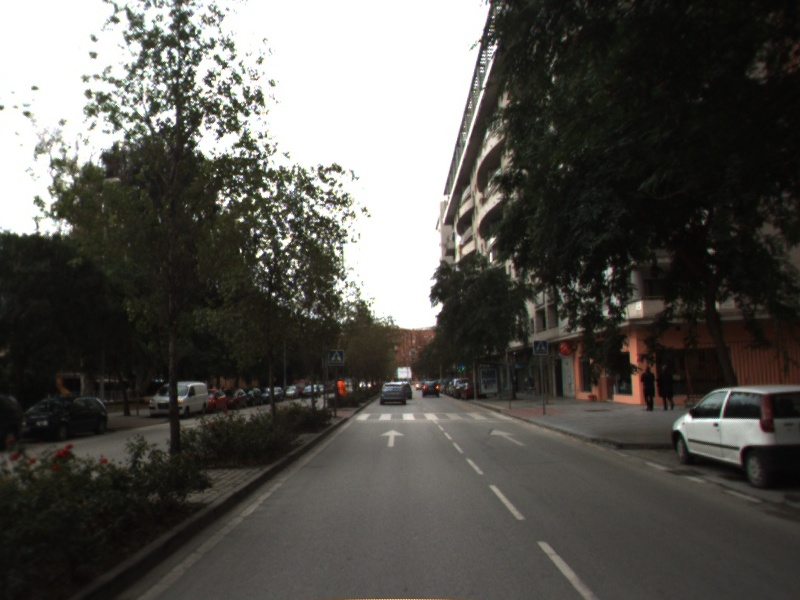STRAIGHT: (488, 427, 529, 448), (378, 427, 407, 449)
